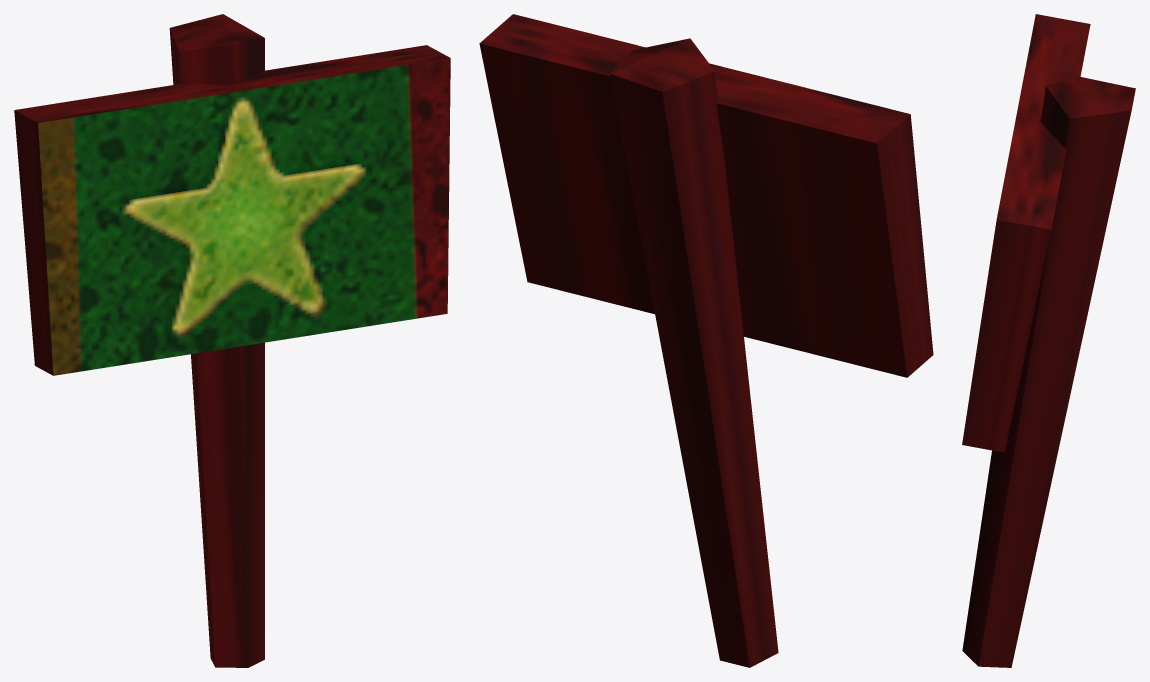
The model's file is SignGreenStar.gltf.
3 renders of one model, left to right at view 1: azimuth 30°, elevation 25°; view 2: azimuth 150°, elevation 25°; view 3: azimuth 270°, elevation 25°, orthographic. The views are drawn at different scales.
Parts seen in each view (by area): view 1: SignGreenStarMesh; view 2: SignGreenStarMesh; view 3: SignGreenStarMesh.
Boxes of the visible parts, x1,y1,x2,y2 form: SignGreenStarMesh: (14,14,450,667); SignGreenStarMesh: (479,14,933,667); SignGreenStarMesh: (962,14,1135,667).
Size of the model in its own units: 1.67 by 2.38 by 0.6383.
1 material, 1 textured.
